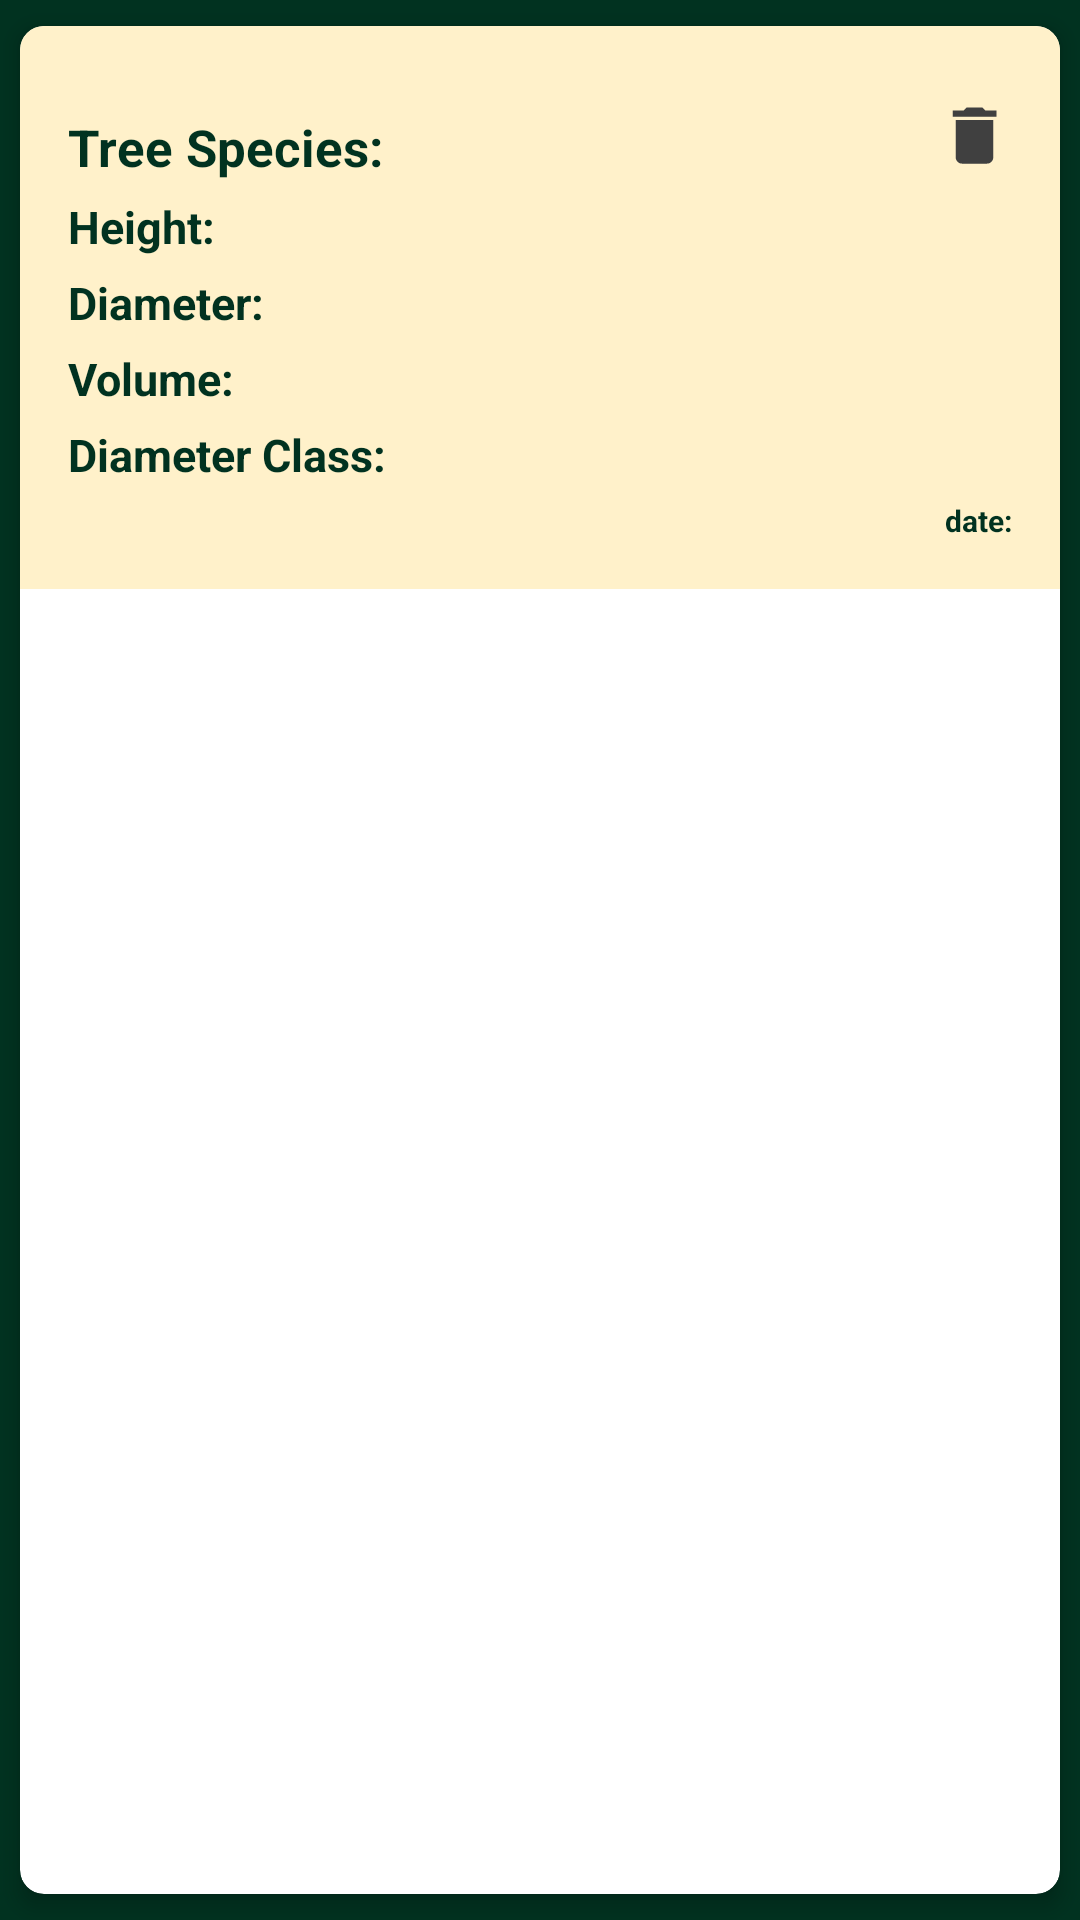

Icon click points for this 1080px x 1920px phone screenshot, format [x,y]:
delete: [974,135]
